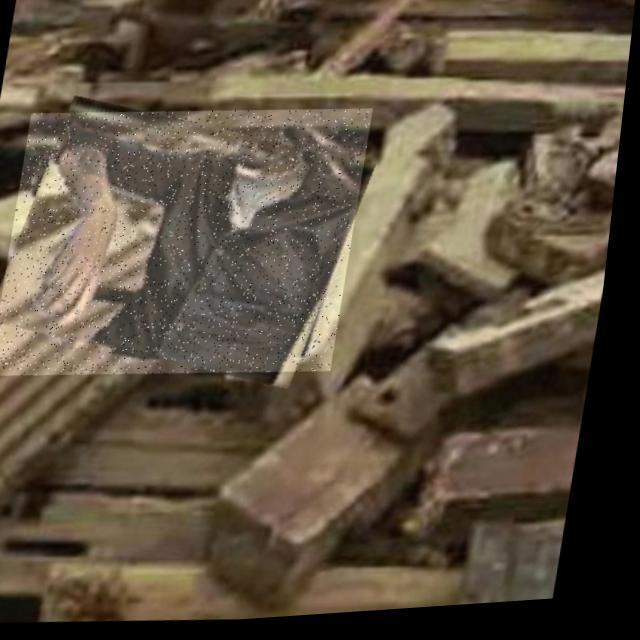Person in Rubble: (0, 96, 377, 394)
